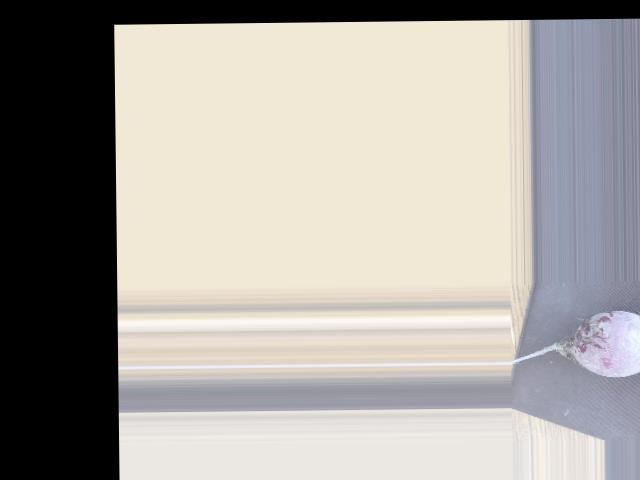beet: (509, 308, 640, 404)
